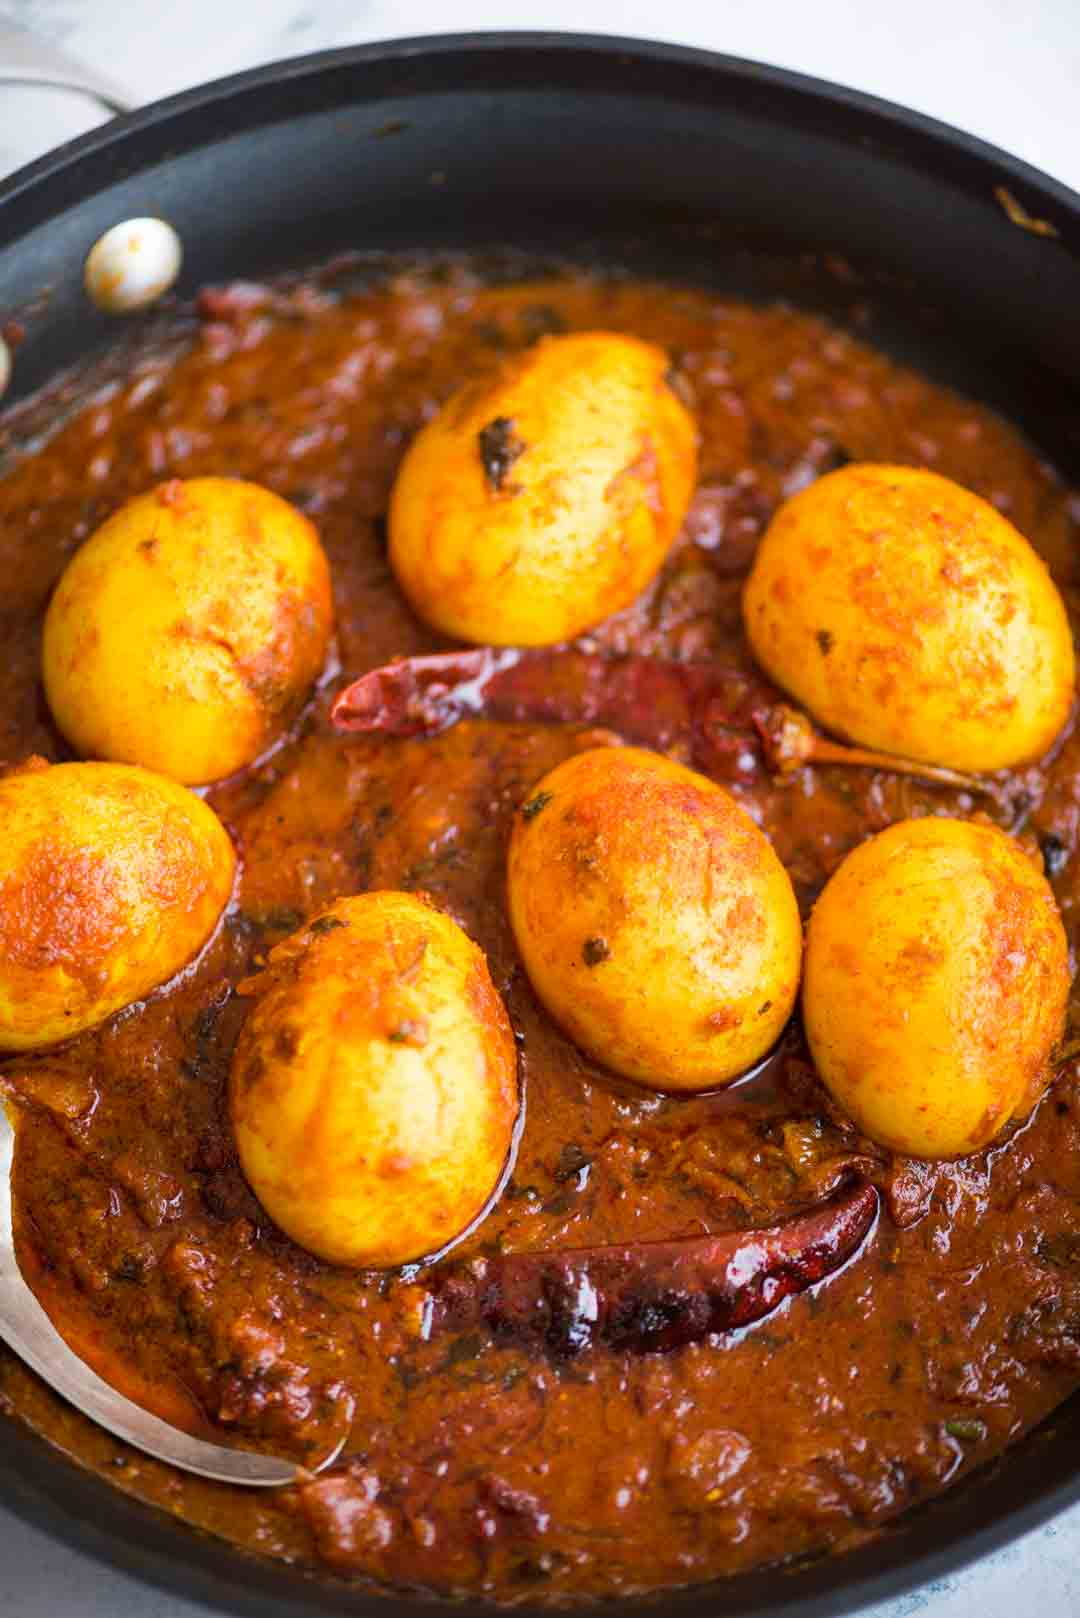curry: (10, 280, 1079, 1566)
egg: (221, 884, 530, 1283), (736, 442, 1080, 796), (364, 314, 708, 669), (736, 808, 1080, 1163), (33, 420, 376, 773), (491, 730, 832, 1084), (1, 720, 231, 1058)
